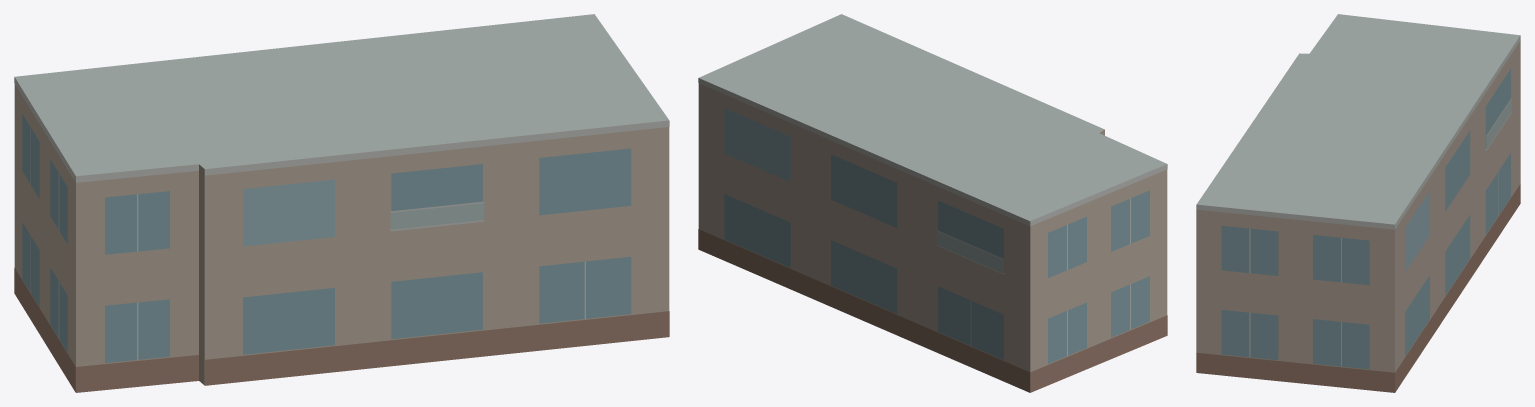
File: survey-upis-32755393.glb
3 renders of one model, left to right at view 1: azimuth 30°, elevation 25°; view 2: azimuth 150°, elevation 25°; view 3: azimuth 270°, elevation 25°, orthographic. The views are drawn at different scales.
Visible parts, largest first — view 1: survey-upis-32755393.tmp; view 2: survey-upis-32755393.tmp; view 3: survey-upis-32755393.tmp.
Boxes of the visible parts, <box> form: survey-upis-32755393.tmp: <box>14,14,669,392</box>; survey-upis-32755393.tmp: <box>698,14,1167,392</box>; survey-upis-32755393.tmp: <box>1196,14,1520,392</box>.
Size of the model in its own units: 21.74 by 8.1 by 14.15.
